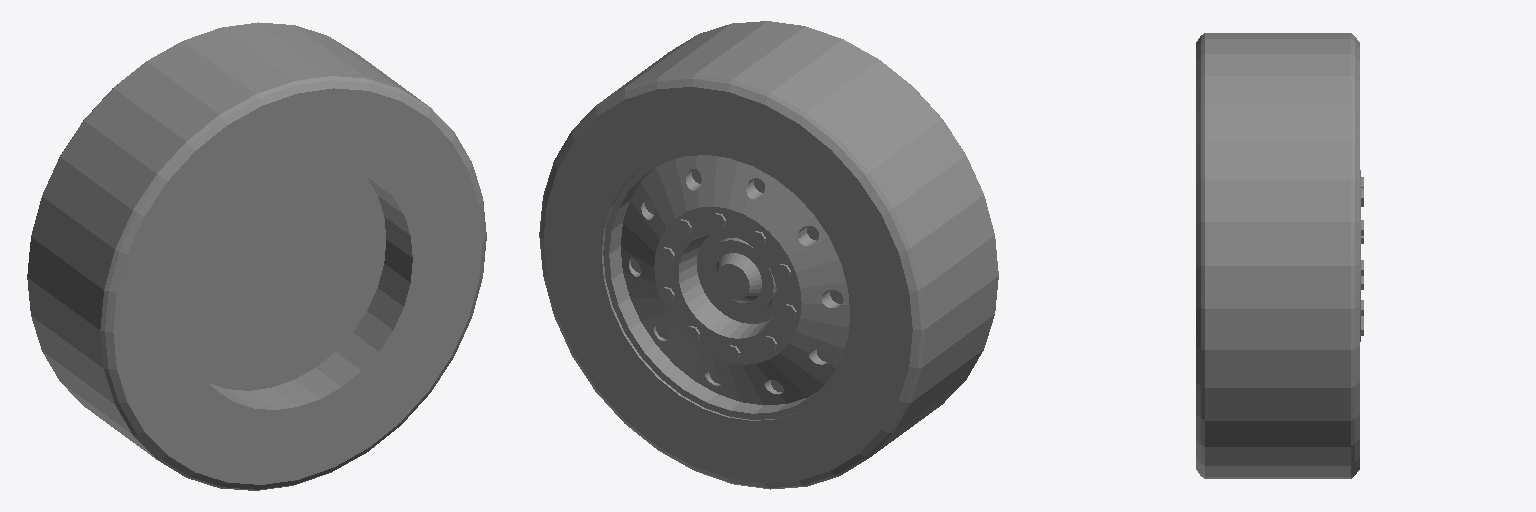
The model's file is ALlDDe.obj.
3 renders of one model, left to right at view 1: azimuth 30°, elevation 25°; view 2: azimuth 150°, elevation 25°; view 3: azimuth 270°, elevation 25°, orthographic.
Visible parts, largest first — view 1: ALlDDe; view 2: ALlDDe; view 3: ALlDDe.
Part boxes in pixels (x1,y1,x2,y2): ALlDDe: (27, 22, 486, 490); ALlDDe: (539, 21, 998, 489); ALlDDe: (1196, 33, 1363, 478).
Bounding box in the file's own units: 0.7126 × 0.7126 × 0.2682.